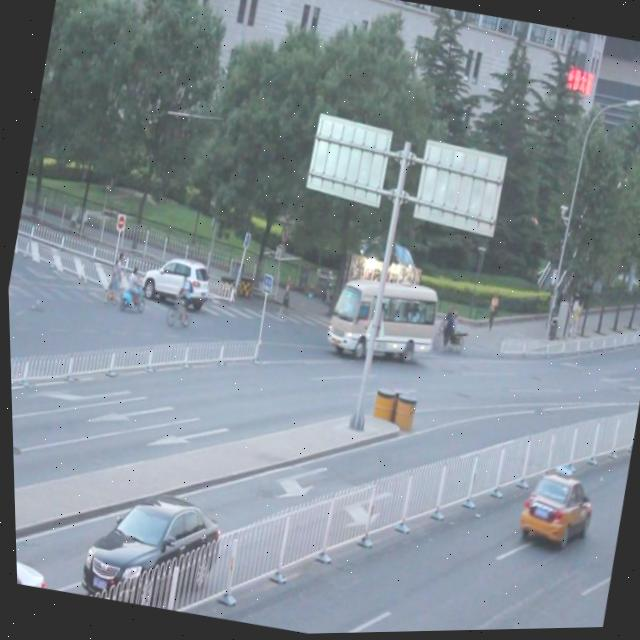car: (73, 482, 222, 619), (510, 462, 597, 555), (135, 250, 211, 316), (12, 536, 50, 589)
truck: (321, 269, 441, 371)
